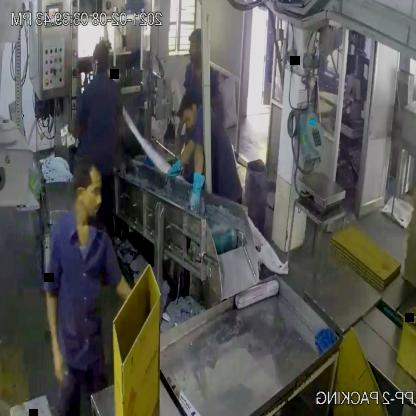glove: (189, 152, 207, 222)
no_glove: (42, 281, 77, 388)
